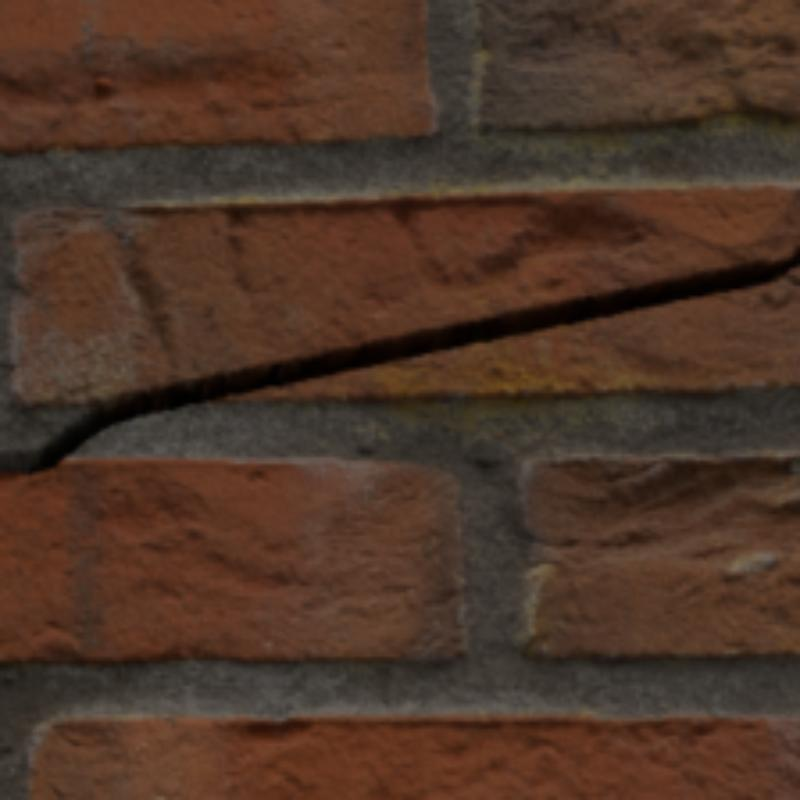pothole: (2, 249, 799, 474)
